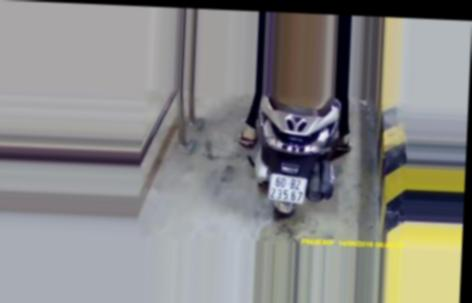License_Plate: (262, 171, 312, 206)
